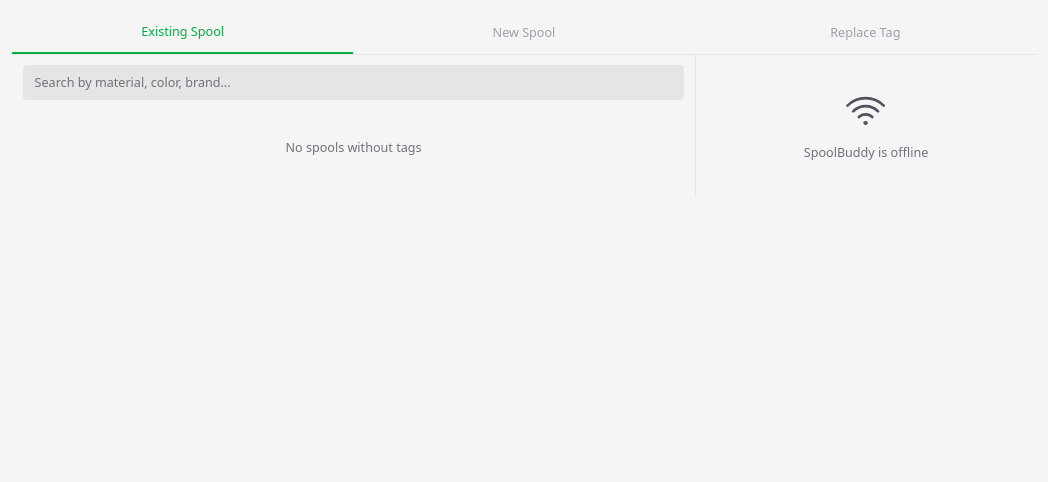
Test: SpoolBuddyWriteTagPage › switches to new spool form on tab click
Click the button "New Spool" at (524, 33), box [353,12,695,54]
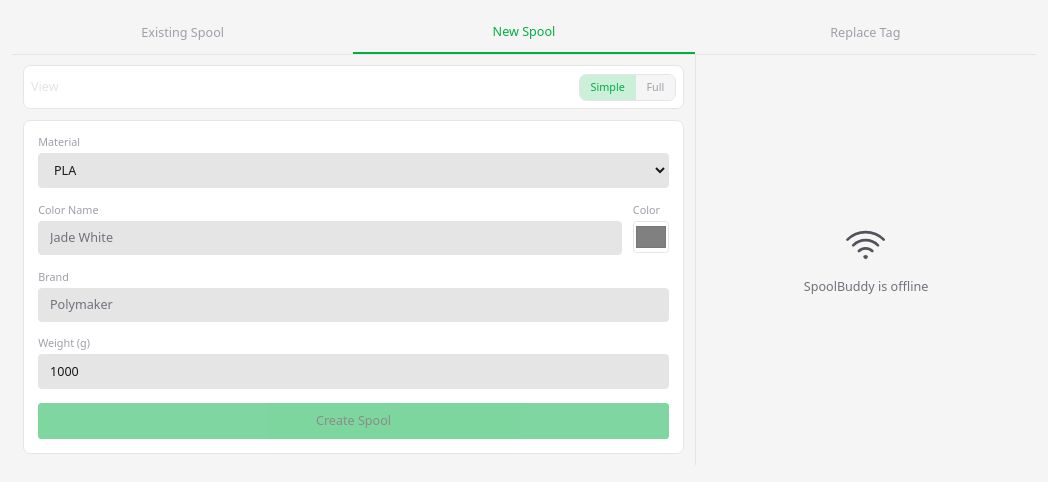
Result: the text "Material" is shown at [38,134,80,149]
Result: the text "Color Name" is shown at [38,202,98,217]
Result: the text "Brand" is shown at [38,269,69,284]
